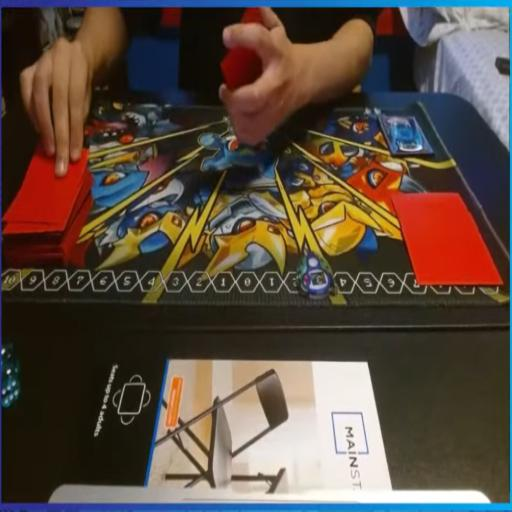card: (378, 113, 432, 167)
